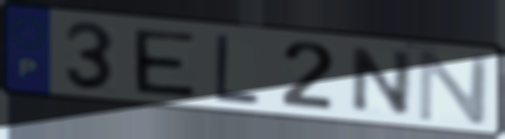2: (278, 39, 340, 114)
3: (63, 20, 120, 93)
E: (130, 27, 199, 100)
L: (213, 31, 263, 108)
N: (415, 48, 494, 126), (347, 44, 417, 118)
